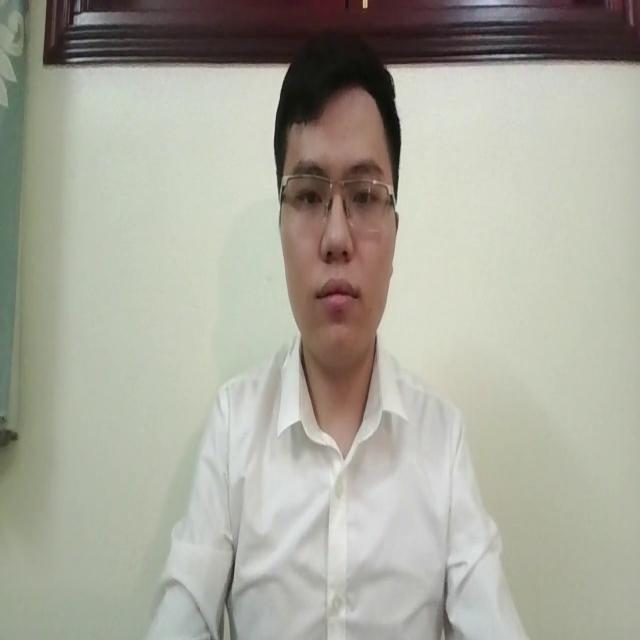student: (148, 23, 531, 640)
